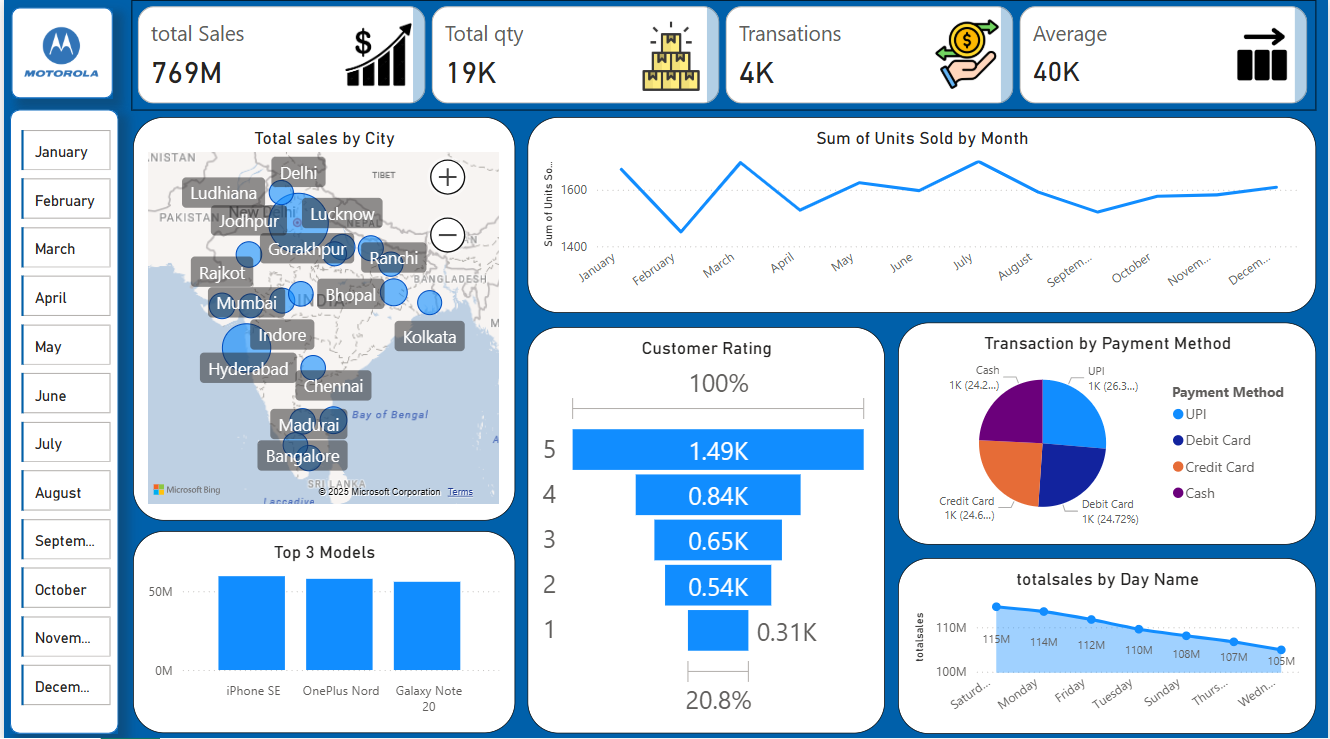

What the dashboard file says about the page in this screenshot:
{"tool":"powerbi","page":{"name":"Page 12","canvas":[1280,720],"ordinal":0},"visuals":[{"type":"shape","box":[7.1,7.1,98,87.8],"z":0},{"type":"image","box":[0,0,111.1,106.3],"z":1000},{"type":"shape","box":[6.3,106.3,104.8,603.2],"z":2000},{"type":"advancedSlicerVisual","fields":{"Values":["sales data.Date.Variation.Date Hierarchy.Month"]},"box":[11.1,120.6,96.8,574.6],"z":3000},{"type":"cardVisual","fields":{"Data":["sales data.totalsales","sales data.total quantity","sales data.total trans","sales data.average"]},"box":[123.8,0,1144.4,106.3],"z":4000},{"type":"map","title":"Total sales by City","fields":{"Category":["sales data.City"],"Size":["sales data.totalsales"]},"box":[124.1,112.9,369,389.7],"z":5000},{"type":"lineChart","fields":{"Y":["Sum(sales data.Units Sold)"],"Category":["sales data.Date.Variation.Date Hierarchy.Month","sales data.Date.Variation.Date Hierarchy.Day"]},"box":[505.8,112.9,761.9,189.3],"z":6000},{"type":"columnChart","title":"Top 3 Models","fields":{"Category":["sales data.Mobile Model"],"Y":["sales data.totalsales"]},"box":[124.1,513.8,369,195.6],"z":7000},{"type":"pieChart","title":"Transaction by Payment Method","fields":{"Category":["sales data.Payment Method"],"Y":["sales data.total trans"]},"box":[863.7,311.8,404,214.7],"z":8000},{"type":"funnel","title":"Customer Rating","fields":{"Category":["sales data.Customer Ratings"],"Y":["CountNonNull(sales data.Customer Ratings)"]},"box":[505.8,316.5,345.2,392.9],"z":9000},{"type":"stackedAreaChart","fields":{"Category":["sales data.Day Name"],"Y":["sales data.totalsales"]},"box":[863.7,539.2,404,170.2],"z":10000}]}

Visuals, with their boxes in screenshot pixels (x1, y1, x2, y2), scaled from the page's 1280x720 canvas onto the 1330x739 screenshot:
shape: pyautogui.locateOnScreen(7, 7, 109, 97)
image: pyautogui.locateOnScreen(0, 0, 115, 109)
shape: pyautogui.locateOnScreen(7, 109, 115, 728)
advancedSlicerVisual - sales data.Date.Variation.Date Hierarchy.Month: pyautogui.locateOnScreen(12, 124, 112, 714)
cardVisual - sales data.totalsales x sales data.total quantity: pyautogui.locateOnScreen(129, 0, 1318, 109)
"Total sales by City" map: pyautogui.locateOnScreen(129, 116, 512, 516)
lineChart - Sum(sales data.Units Sold) x sales data.Date.Variation.Date Hierarchy.Month: pyautogui.locateOnScreen(526, 116, 1317, 310)
"Top 3 Models" columnChart: pyautogui.locateOnScreen(129, 527, 512, 728)
"Transaction by Payment Method" pieChart: pyautogui.locateOnScreen(897, 320, 1317, 540)
"Customer Rating" funnel: pyautogui.locateOnScreen(526, 325, 884, 728)
stackedAreaChart - sales data.Day Name x sales data.totalsales: pyautogui.locateOnScreen(897, 553, 1317, 728)
